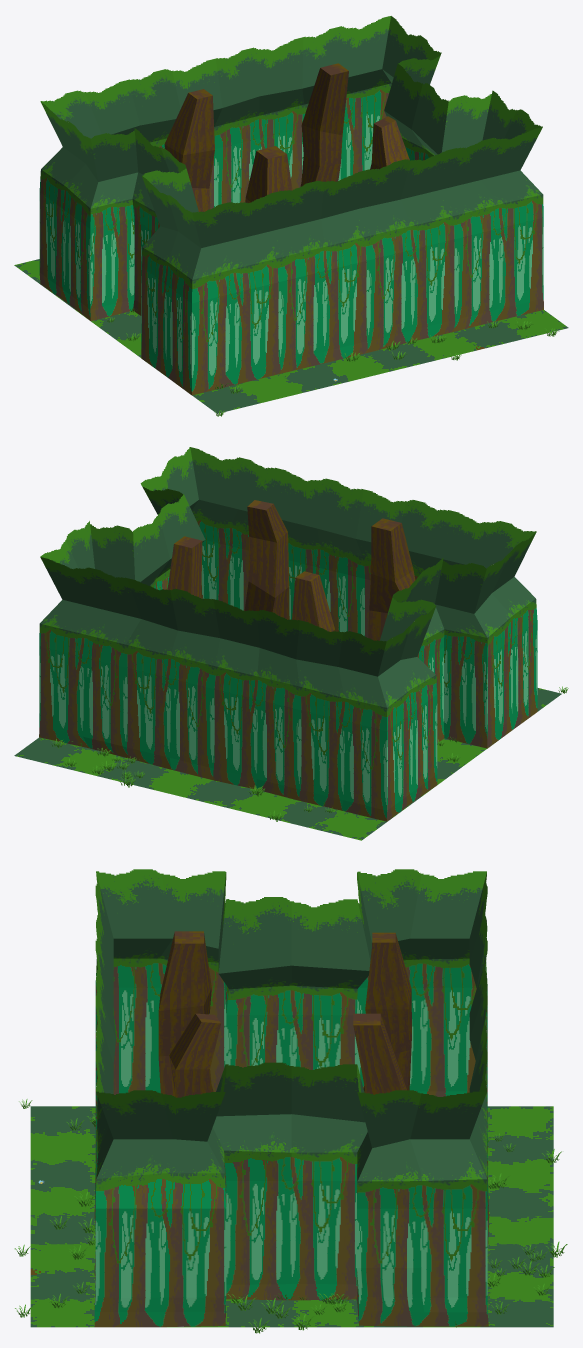
File: 4trees.glb
The picture shows the model from 3 angles, top to bottom: view 1: azimuth 30°, elevation 25°; view 2: azimuth 150°, elevation 25°; view 3: azimuth 270°, elevation 25°; orthographic projection. The views are drawn at different scales.
Visible parts, largest first — view 1: 4 дерева, 4 дерева.002, 4 дерева.001, трава.007; view 2: 4 дерева, 4 дерева.002, 4 дерева.001, трава.007; view 3: 4 дерева, 4 дерева.001, 4 дерева.002, трава.007.
Part boxes in pixels (x1,y1,x2,y2): 4 дерева: [39, 16, 543, 395]; 4 дерева.002: [164, 63, 409, 211]; 4 дерева.001: [14, 259, 568, 413]; трава.007: [106, 308, 559, 416]; 4 дерева: [39, 447, 537, 821]; 4 дерева.002: [167, 500, 415, 640]; 4 дерева.001: [14, 688, 561, 840]; трава.007: [50, 686, 568, 821]; 4 дерева: [94, 869, 489, 1327]; 4 дерева.001: [30, 1106, 553, 1327]; 4 дерева.002: [158, 931, 411, 1097]; трава.007: [14, 1099, 567, 1333].
Bounding box in the file's own units: 16.79 × 8.42 × 16.98.
Materials: 13 (7 with a texture image).
